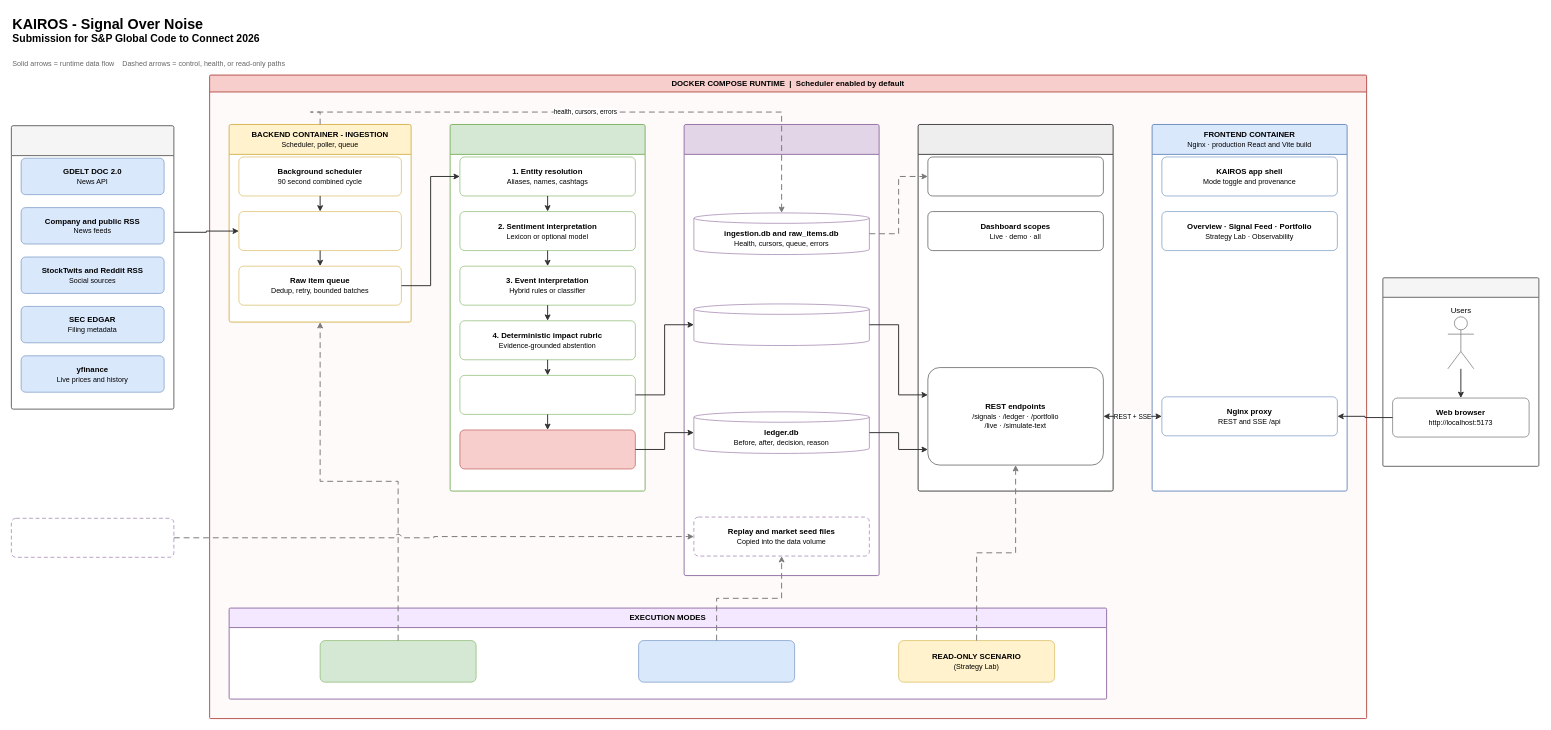
This 1551x730 diagram has some shape labels left out. The shapes that lost their labels are listed below. From the top down, each one's box as (x1, y1, x2, y2) in pixels, then its label:
(927, 156, 1103, 196): Event hub Push and REST fallback
(238, 211, 401, 251): Provider poller and adapters Normalize source items
(11, 125, 174, 409): EXTERNAL DATA SOURCES Live providers
(449, 124, 645, 491): BACKEND CONTAINER - SIGNAL PIPELINE Runs on each queued raw item
(693, 303, 869, 346): signals.db Validated company-specific signals
(917, 124, 1113, 491): FASTAPI API BOUNDARY REST commands · SSE live ingestion events
(683, 124, 879, 576): PERSISTENT DATA VOLUMES Shared data volume
(1382, 277, 1539, 467): END USERS
(459, 375, 635, 414): 5. Signal contract Pydantic validation and provenance
(459, 429, 635, 469): 6. Module A rebalancer Caps, freshness, duplicates, 100 percent
(11, 518, 174, 557): Committed replay and market files Offline fallback
(319, 640, 476, 682): LIVE Current provider fetch and fresh inference
(638, 640, 795, 682): HISTORICAL REPLAY Committed corpus and fresh inference
